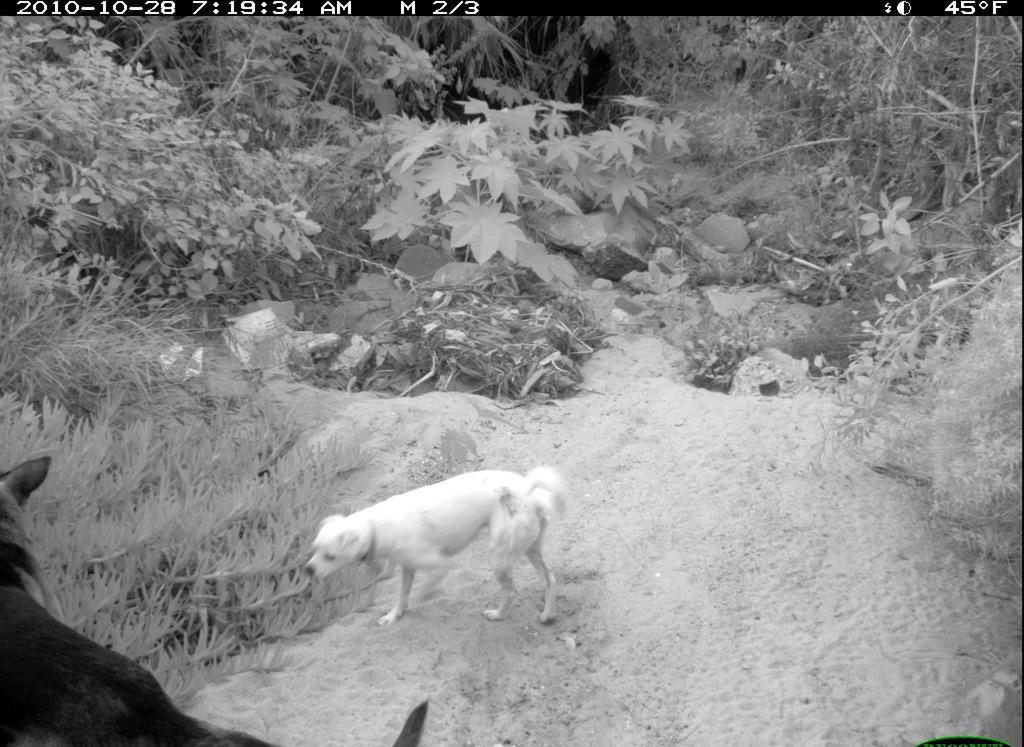dog: (2, 456, 442, 747), (301, 464, 575, 637)
